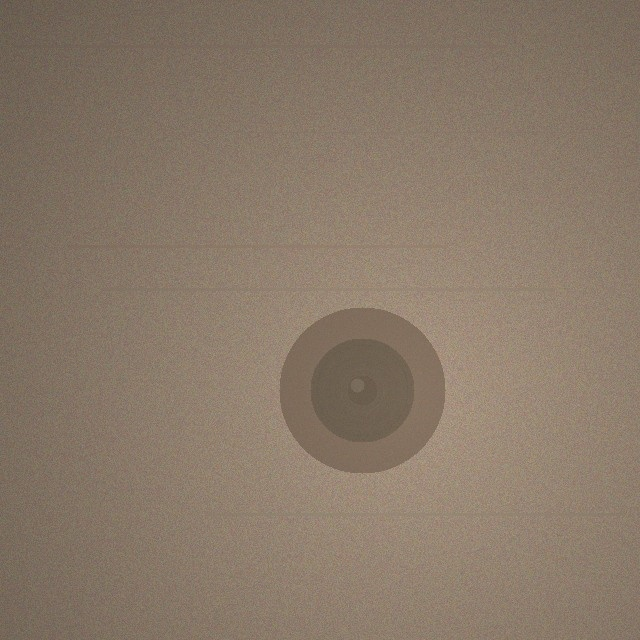good: (279, 307, 445, 473)
